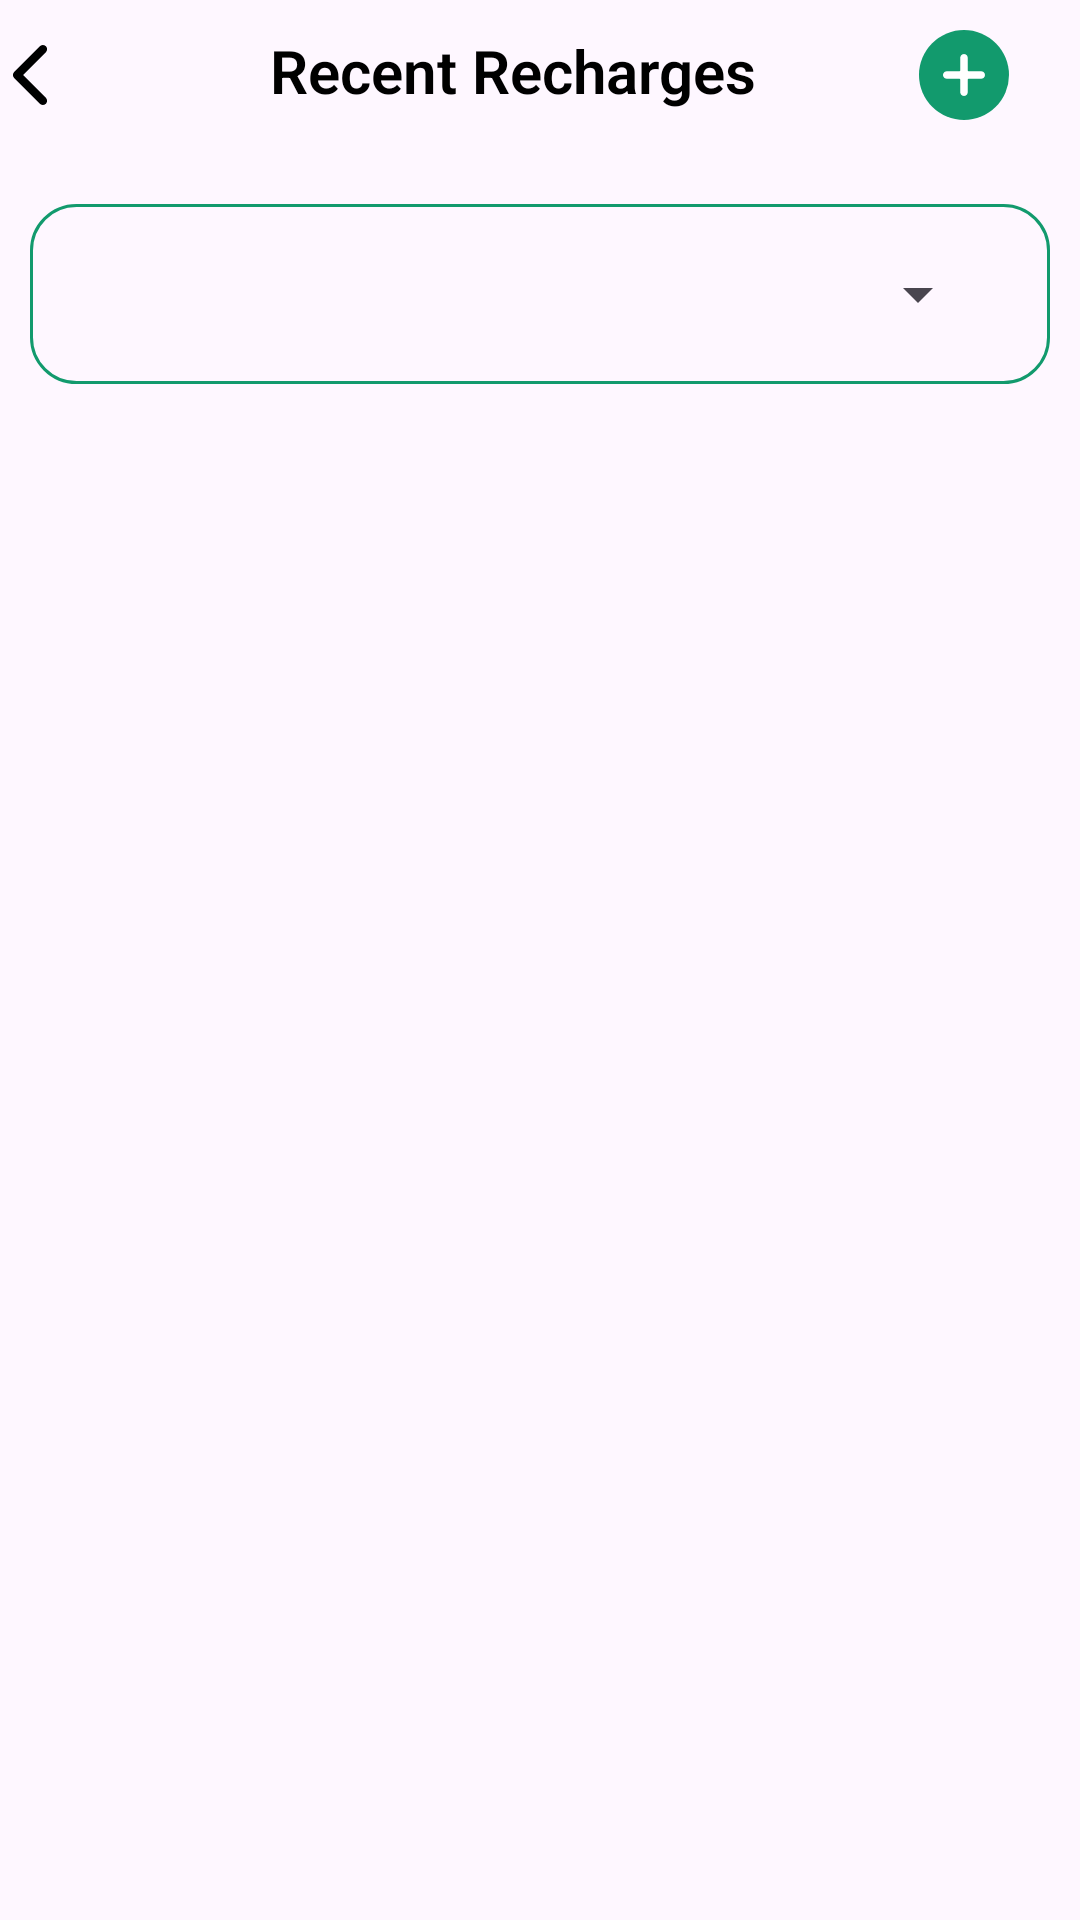

Icons on this 1080x1920 Android screen, each with the point to tap as (x,y):
add: (964,75)
left arrow: (30,75)
